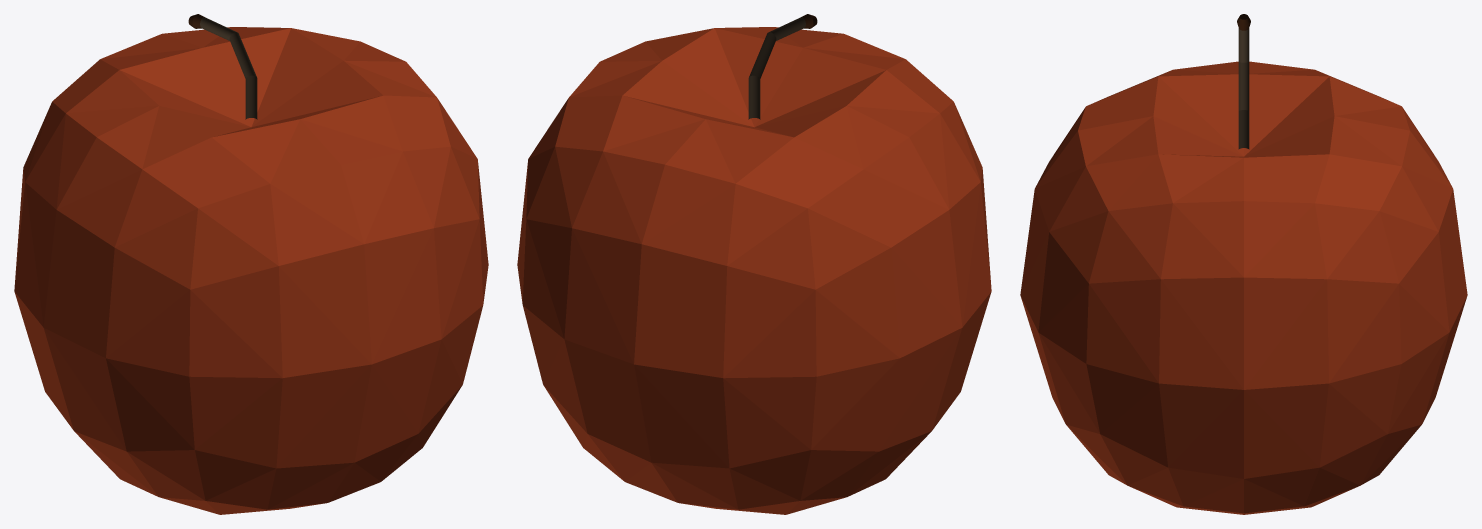
Rendered from AppleGrenade.fbx.
3 views of the same model, side by side, from view 1: azimuth 30°, elevation 25°; view 2: azimuth 150°, elevation 25°; view 3: azimuth 270°, elevation 25° (orthographic). The views are drawn at different scales.
Visible parts, largest first — view 1: Cube.001; view 2: Cube.001; view 3: Cube.001.
Boxes of the visible parts, <box> form: Cube.001: <box>14,14,488,514</box>; Cube.001: <box>517,14,991,514</box>; Cube.001: <box>1020,14,1467,514</box>.
Bounding box in the file's own units: 318 × 350 × 319.
